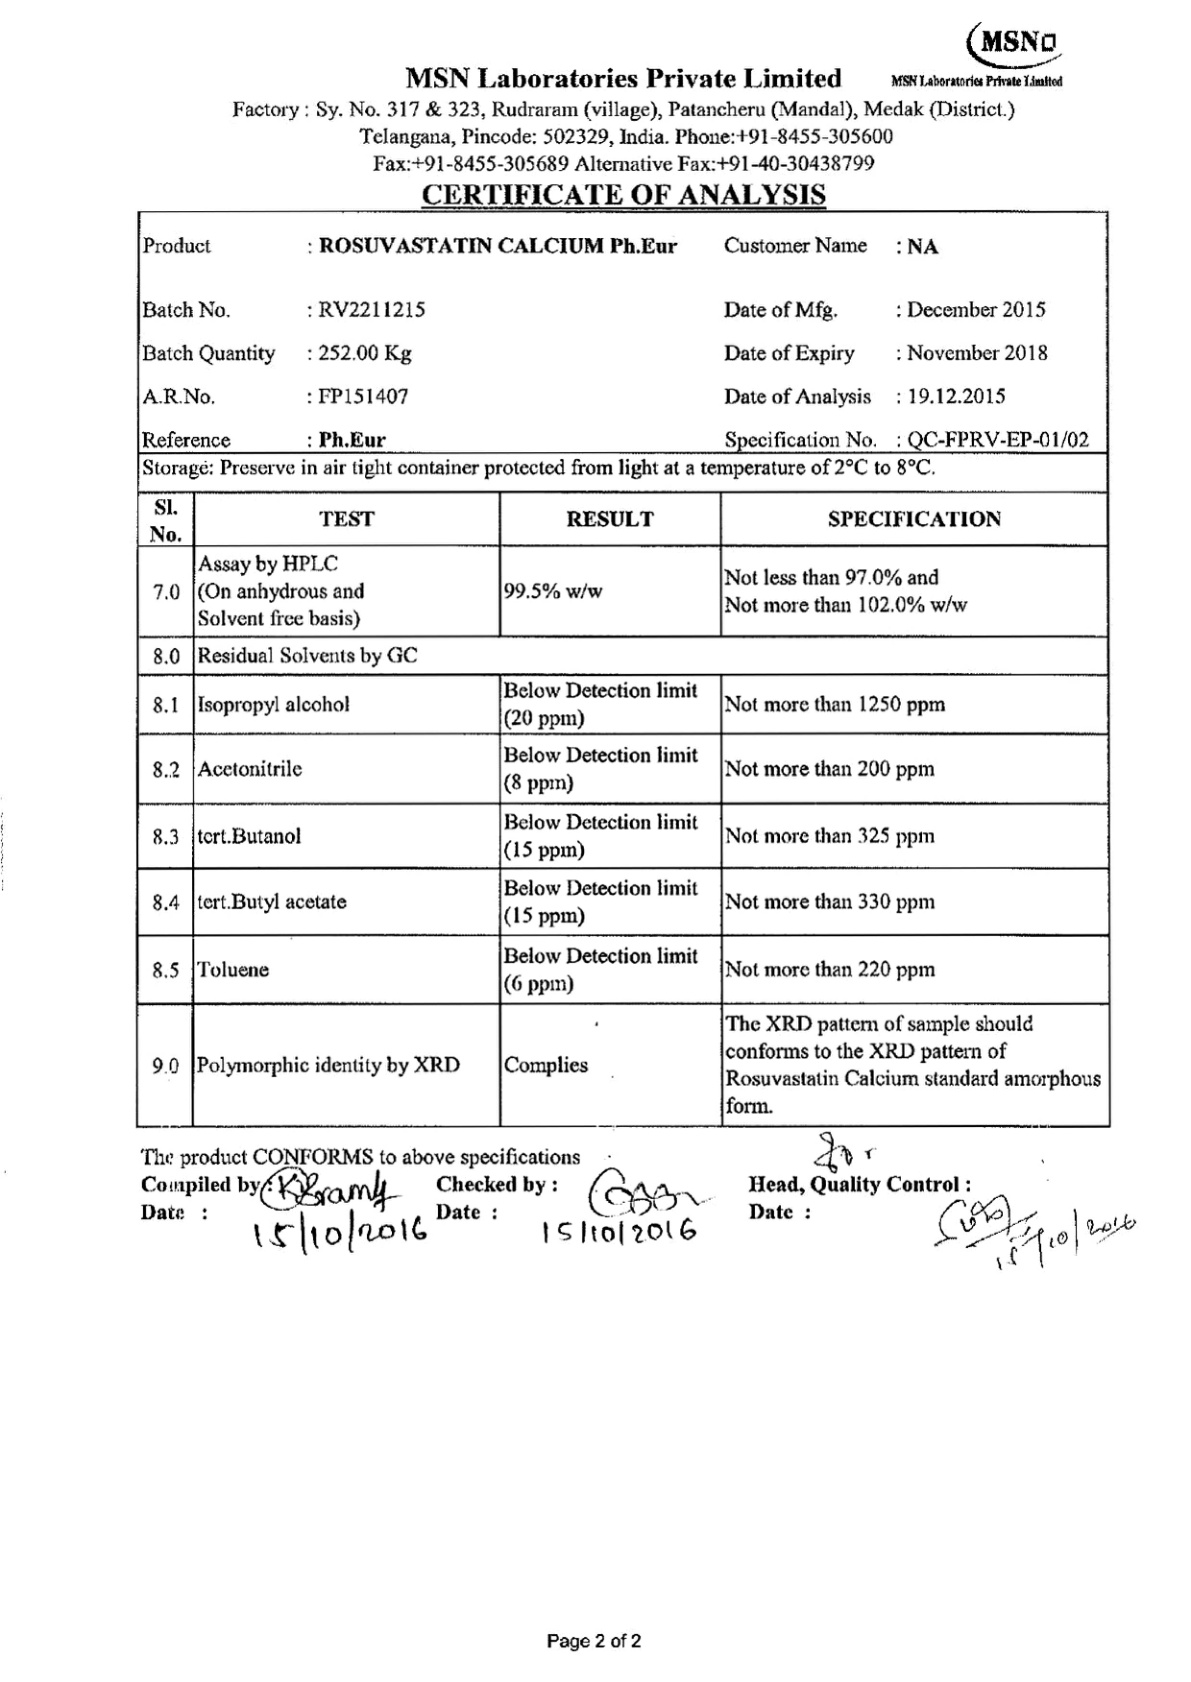merged_cells: (134, 210, 1112, 1128)
